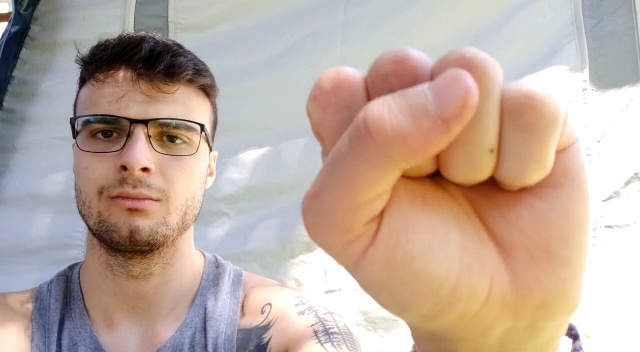Fist: (301, 44, 595, 322)
